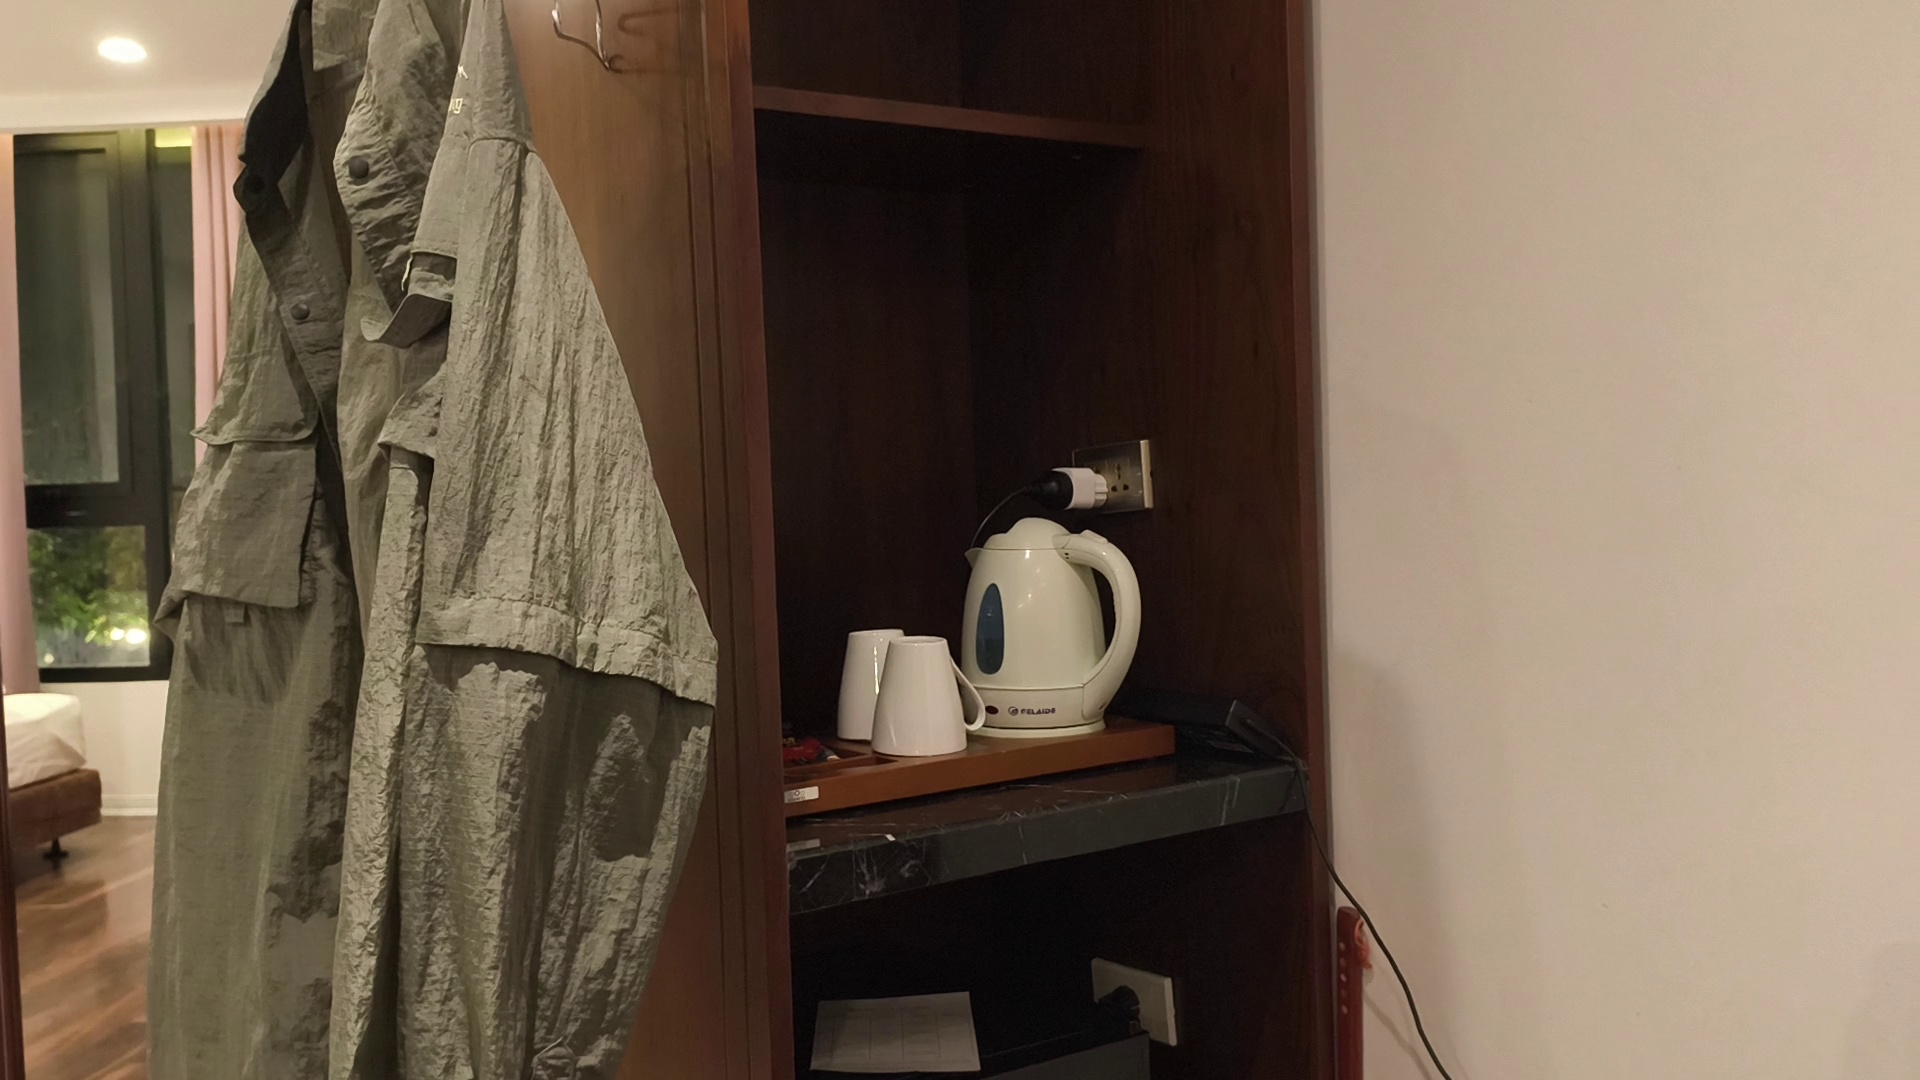cloth: (121, 99, 708, 1060)
cpu: (823, 629, 961, 758)
cup: (975, 522, 1145, 738)
dianxian: (1027, 438, 1121, 516)
windows: (9, 124, 185, 669)
